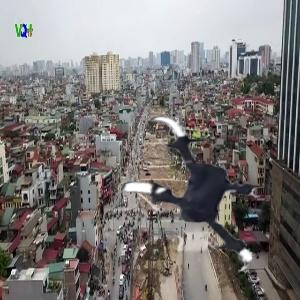drone: (98, 107, 279, 288)
